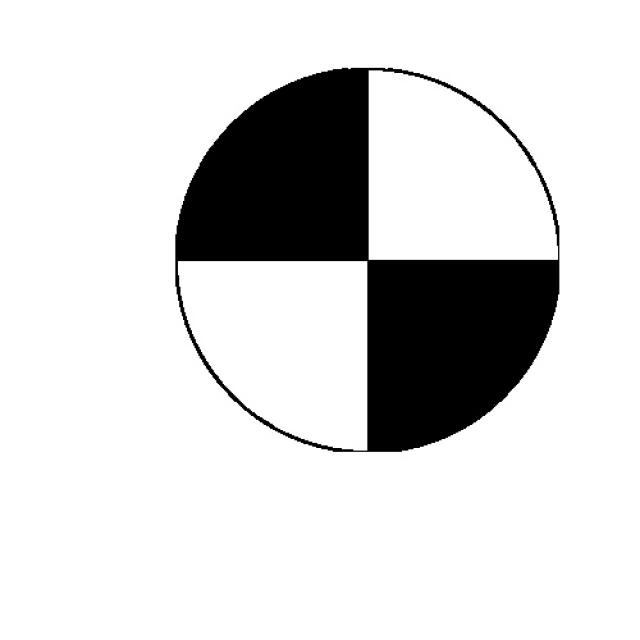Marcadores: (176, 67, 559, 451)
